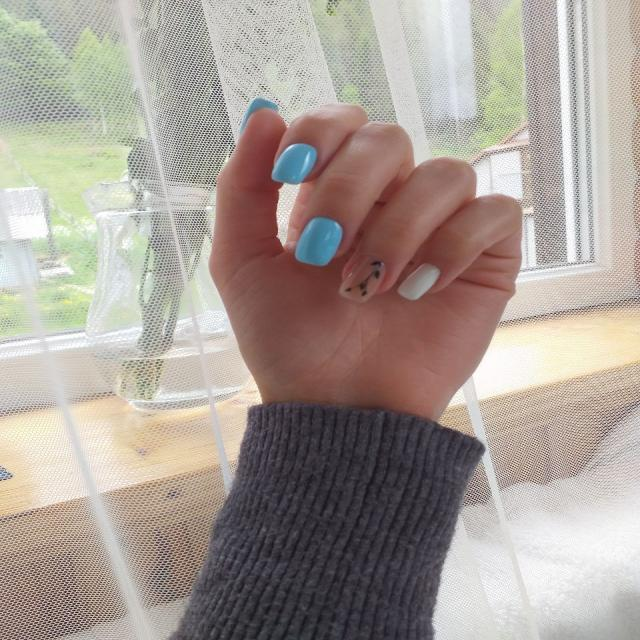Nail: (294, 216, 344, 267), (339, 258, 385, 301), (271, 142, 318, 184), (396, 264, 441, 301), (242, 98, 278, 131)
